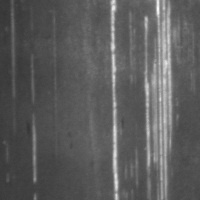scratches: (143, 1, 176, 200), (105, 1, 125, 200), (6, 1, 20, 100), (28, 107, 40, 199)
